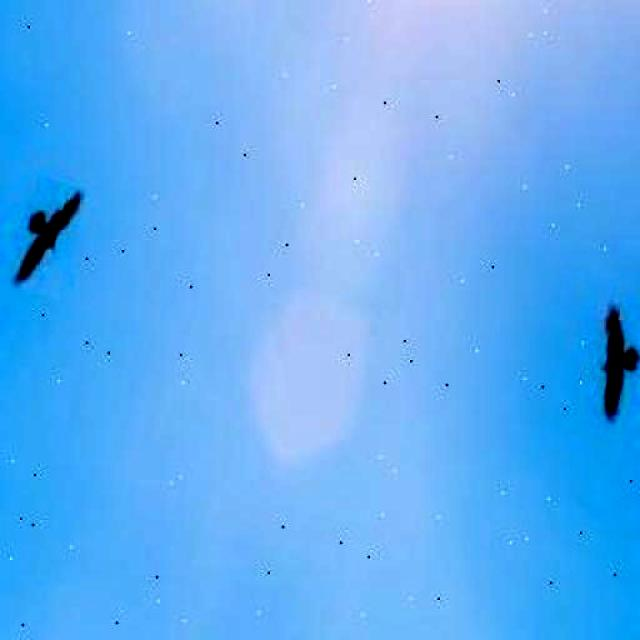airplane: (8, 178, 86, 299), (575, 299, 640, 428)
